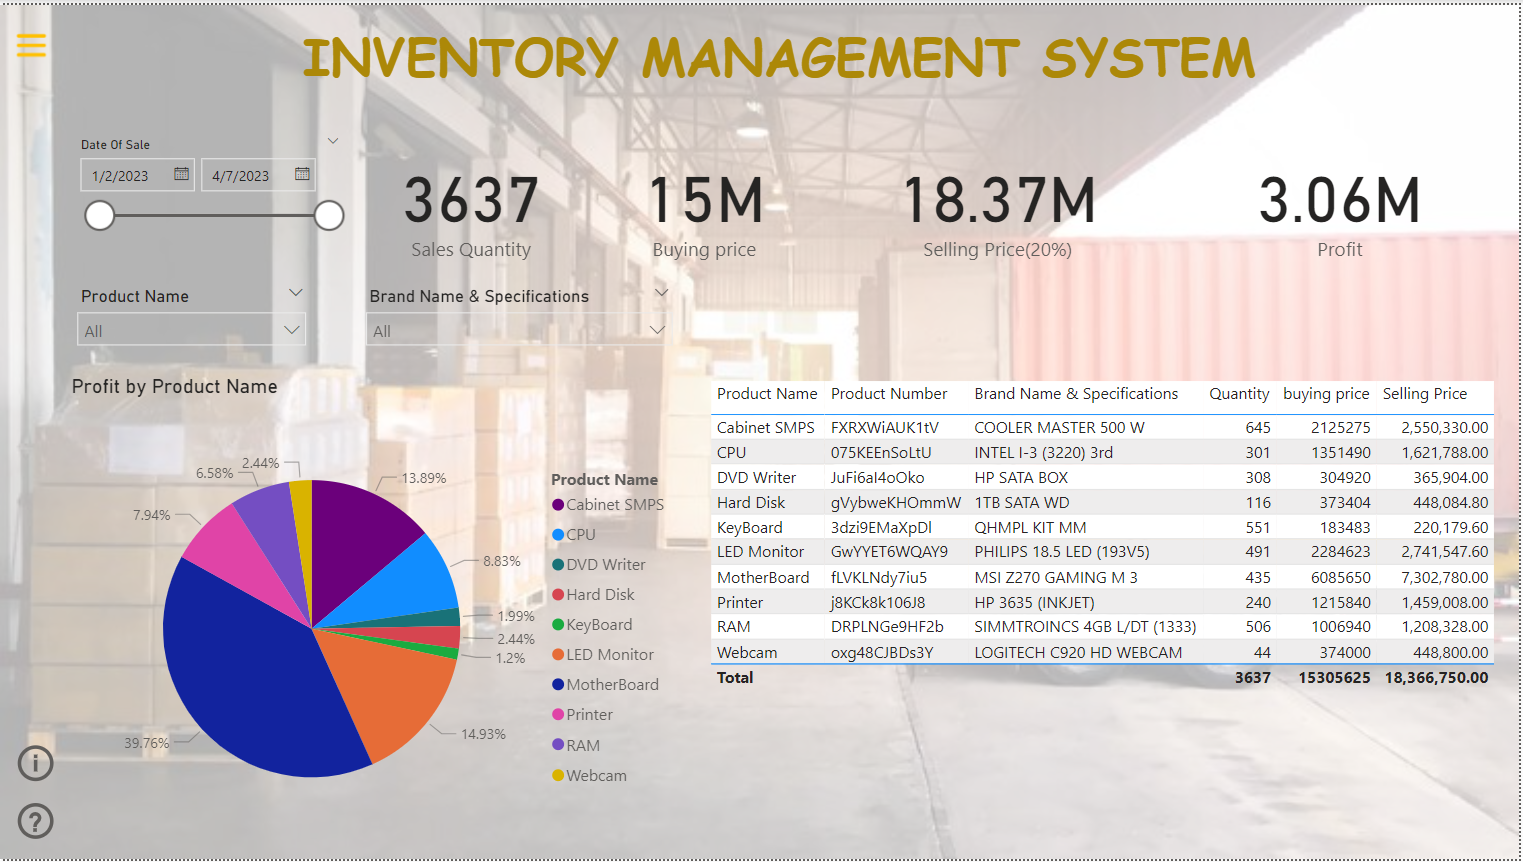

The page's visual inventory and layout, read from the dashboard file:
{"tool":"powerbi","page":{"name":"Sales","canvas":[1280,720],"ordinal":1},"visuals":[{"type":"slicer","fields":{"Values":["Sales.Product Name"]},"box":[55.6,230.8,213.1,80.5],"z":0},{"type":"actionButton","title":"question","box":[9.5,667.7,46.2,40.2],"z":0,"group":"g1"},{"type":"slicer","fields":{"Values":["Sales.Date Of  Sale"]},"box":[55.6,105.4,242.7,91.2],"z":1000},{"type":"actionButton","title":"info","box":[9.5,619.1,46.2,40.2],"z":1000,"group":"g1"},{"type":"group","id":"g1","title":"Menu bar","box":[9,17,46.6,690.9],"z":2000},{"type":"actionButton","title":"menu","box":[9,17,35,35],"z":2000,"group":"g1"},{"type":"textbox","box":[44.6,7.1,1223.1,79.1],"z":2250},{"type":"pieChart","fields":{"Y":["Sales.Profit"],"Category":["Sales.Product Name"]},"box":[55.6,311.3,520.9,408.4],"z":2500},{"type":"slicer","fields":{"Values":["Sales.Brand Name & Specifications"]},"box":[298.3,230.8,278.2,80.5],"z":6000},{"type":"card","fields":{"Values":["Sum(Sales.Quantity)"]},"box":[298.3,86.4,196.5,161],"z":7000},{"type":"card","fields":{"Values":["Sum(Sales.Total)"]},"box":[691.3,86.4,298.3,161],"z":8000},{"type":"card","fields":{"Values":["Sum(Sales.buying price)"]},"box":[494.8,86.4,196.5,161],"z":9000},{"type":"tableEx","fields":{"Values":["Sales.Product Name","Sales.Product Number","Sales.Brand Name & Specifications","Sum(Sales.Quantity)","Sum(Sales.buying price)","Sum(Sales.Total)"]},"box":[593.1,311.3,673.6,396.6],"z":10000},{"type":"card","fields":{"Values":["Sales.Profit"]},"box":[989.7,86.4,278.2,161],"z":11000}]}

Visuals, with their boxes in screenshot pixels (x1, y1, x2, y2), scaled from the page's 1280x720 canvas onto the 1523x862 screenshot:
slicer - Sales.Product Name: (66, 276, 320, 373)
"question" actionButton: (11, 799, 66, 848)
slicer - Sales.Date Of  Sale: (66, 126, 355, 235)
"info" actionButton: (11, 741, 66, 789)
"Menu bar" group: (11, 20, 66, 848)
"menu" actionButton: (11, 20, 52, 62)
textbox: (53, 9, 1508, 103)
pieChart - Sales.Profit x Sales.Product Name: (66, 373, 686, 861)
slicer - Sales.Brand Name & Specifications: (355, 276, 686, 373)
card - Sum(Sales.Quantity): (355, 103, 589, 296)
card - Sum(Sales.Total): (823, 103, 1177, 296)
card - Sum(Sales.buying price): (589, 103, 823, 296)
tableEx - Sales.Product Name x Sales.Product Number: (706, 373, 1507, 848)
card - Sales.Profit: (1178, 103, 1509, 296)
